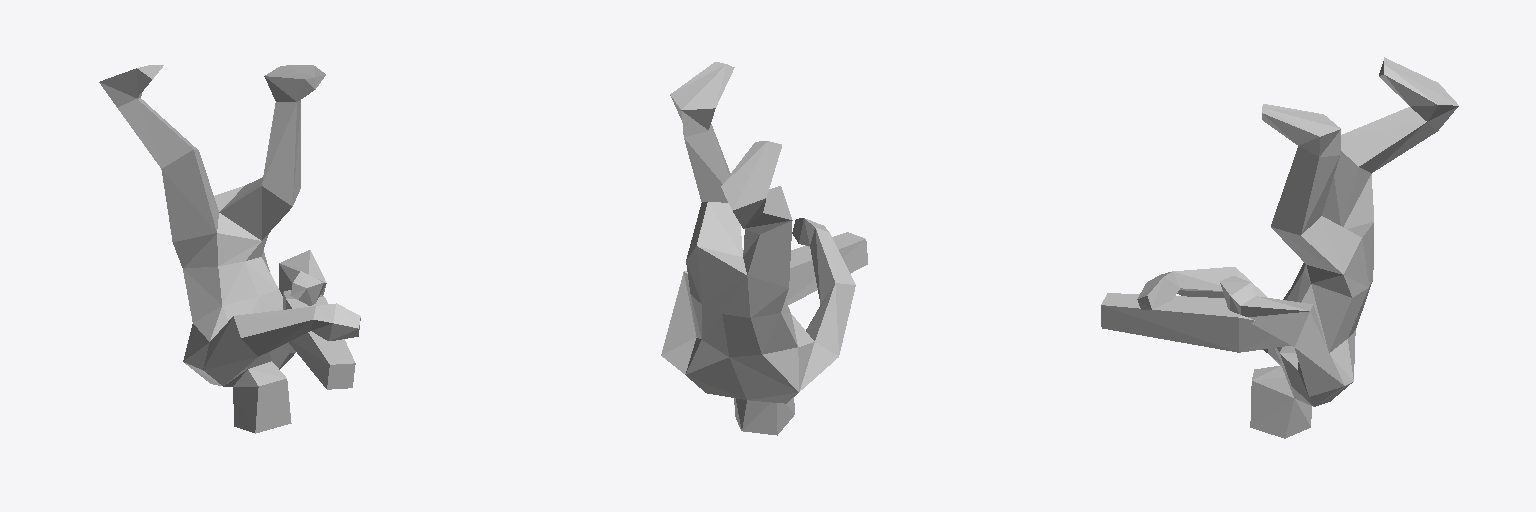
The model's file is Soldier_000005.obj.
3 views of the same model, side by side, from view 1: azimuth 30°, elevation 25°; view 2: azimuth 150°, elevation 25°; view 3: azimuth 270°, elevation 25° (orthographic).
Parts seen in each view (by area): view 1: soldier_rfoot_mesh0.004; view 2: soldier_rfoot_mesh0.004; view 3: soldier_rfoot_mesh0.004.
Part boxes in pixels (x1,y1,x2,y2): soldier_rfoot_mesh0.004: (99,65,360,433); soldier_rfoot_mesh0.004: (661,62,867,435); soldier_rfoot_mesh0.004: (1101,57,1458,438).
Bounding box in the file's own units: 11.86 × 25.17 × 23.65.